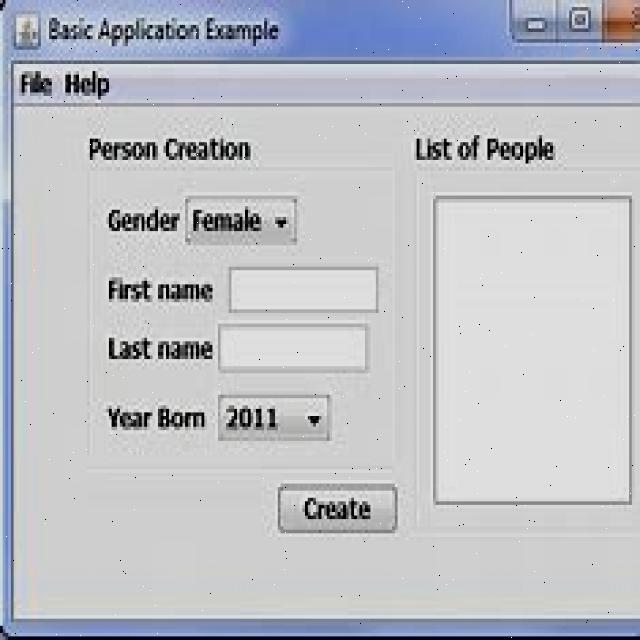button: (276, 480, 398, 538), (508, 0, 558, 46), (57, 63, 115, 102), (556, 0, 604, 46), (599, 0, 637, 46), (14, 62, 57, 102)
dropdownMenu: (184, 191, 298, 247), (216, 393, 333, 443)
icon: (10, 8, 43, 51)
input: (432, 191, 633, 506), (217, 319, 372, 375), (226, 264, 380, 316)
label: (46, 14, 283, 44), (82, 130, 257, 164), (411, 131, 563, 169), (103, 328, 216, 369), (100, 270, 218, 307), (102, 403, 211, 437), (104, 200, 184, 241)
